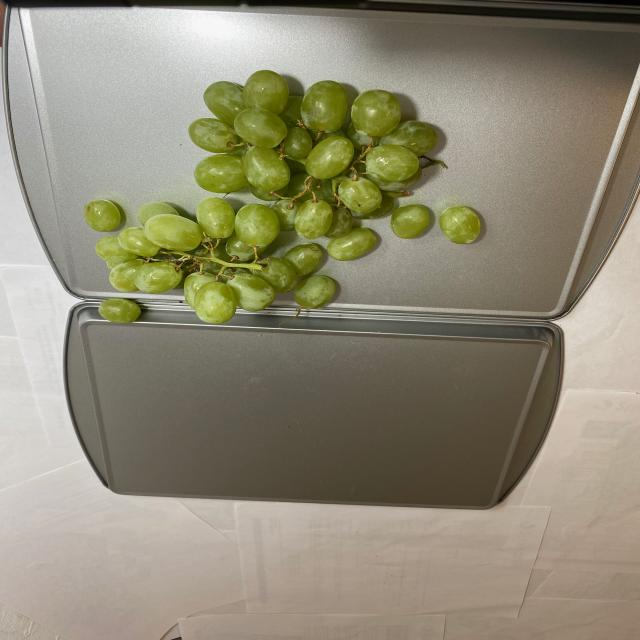Grapes: (74, 79, 481, 320)
